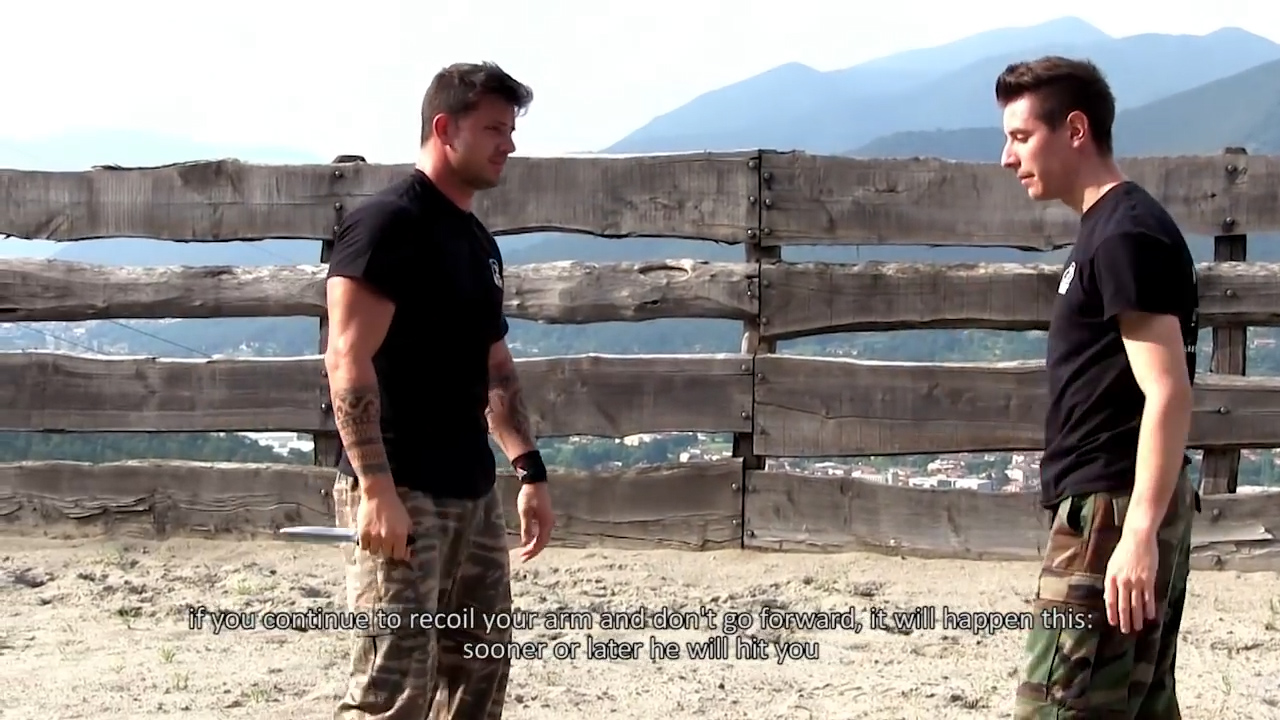knife: (265, 511, 416, 566)
